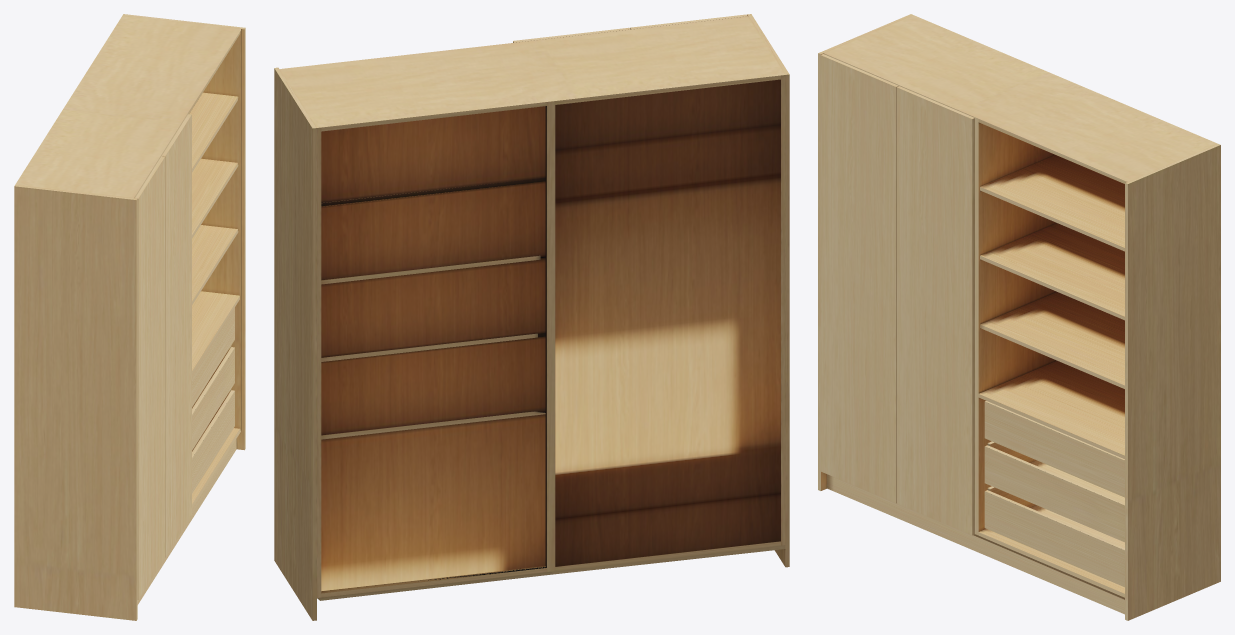
The model's file is closet3.glb.
3 views of the same model, side by side, from view 1: azimuth 30°, elevation 25°; view 2: azimuth 150°, elevation 25°; view 3: azimuth 270°, elevation 25° (orthographic). The views are drawn at different scales.
Parts seen in each view (by area): view 1: vrijstaand.001_Baked, door_plate.010_Baked, door_plate.011_Baked, schuif3_Baked, schuif2_Baked, schuif1_Baked; view 2: vrijstaand.001_Baked; view 3: vrijstaand.001_Baked, door_plate.011_Baked, door_plate.010_Baked, schuif2_Baked, schuif3_Baked, schuif1_Baked.
Boxes of the visible parts, box(x1,y1,x2,y2) form: vrijstaand.001_Baked: box(14, 14, 245, 620); door_plate.010_Baked: box(135, 156, 164, 599); door_plate.011_Baked: box(162, 114, 191, 557); schuif3_Baked: box(192, 389, 234, 493); schuif2_Baked: box(192, 346, 234, 450); schuif1_Baked: box(192, 307, 234, 406); vrijstaand.001_Baked: box(274, 14, 789, 620); vrijstaand.001_Baked: box(818, 14, 1220, 620); door_plate.011_Baked: box(896, 86, 974, 535); door_plate.010_Baked: box(820, 54, 898, 503); schuif2_Baked: box(984, 441, 1124, 542); schuif3_Baked: box(984, 486, 1124, 587); schuif1_Baked: box(984, 401, 1124, 497).
Size of the model in its own units: 0.2758 by 0.33 by 0.2758.
1 material, 1 textured.
